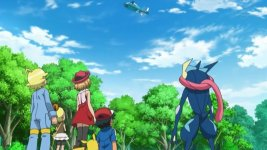greninja: (168, 53, 224, 150)
pikachu: (75, 132, 99, 150)
